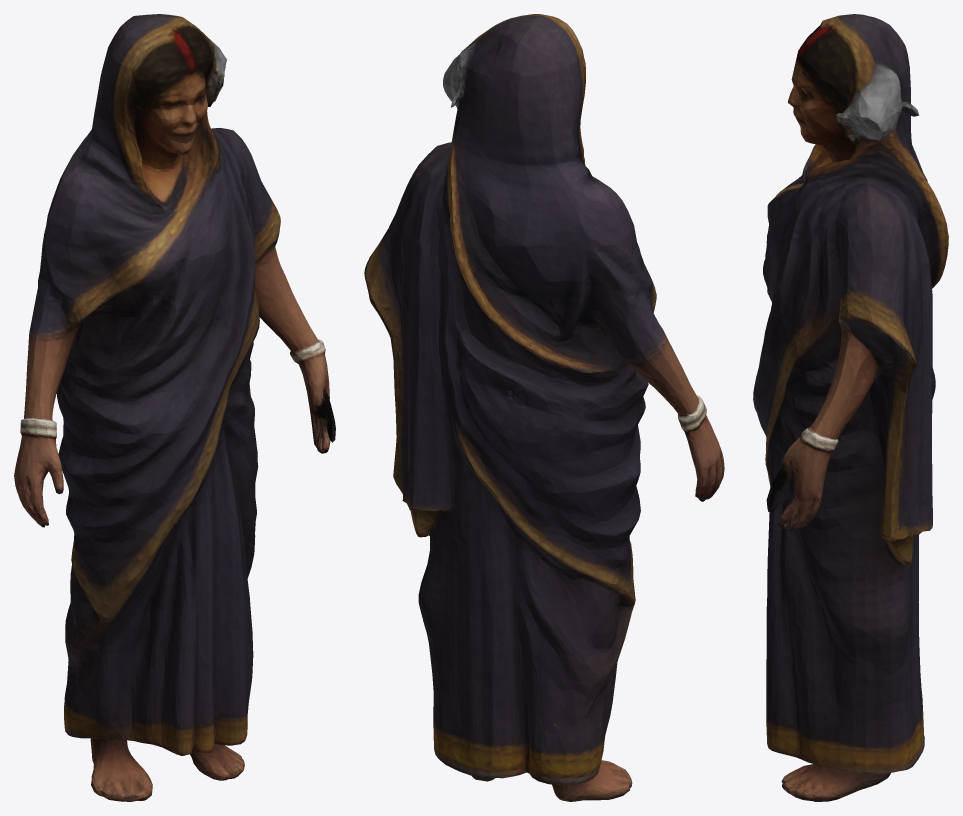
Rendered from neighbor.glb.
3 views of the same model, side by side, from view 1: azimuth 30°, elevation 25°; view 2: azimuth 150°, elevation 25°; view 3: azimuth 270°, elevation 25° (orthographic). The views are drawn at different scales.
Visible parts, largest first — view 1: world; view 2: world; view 3: world.
Boxes of the visible parts, <box> form: world: <box>14,14,335,801</box>; world: <box>364,14,724,801</box>; world: <box>753,14,948,801</box>.
Bounding box in the file's own units: 0.4316 × 1 × 0.2352.
Materials: 1 (1 with a texture image).
